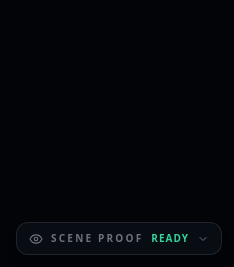
CockpitSceneProofPanel › lists individual NPC names when expanded
The image size is (234, 267).
Click the button with test id "cockpit-proof-toggle" at (119, 238), box x1=17 y1=223 x2=221 y2=254
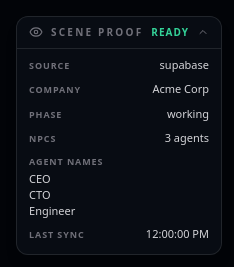
expect the element with test id "proof-npc-list" is shown: met, box x1=29 y1=155 x2=103 y2=218
expect the number of list items is 3: met, box x1=29 y1=171 x2=51 y2=186; x1=29 y1=187 x2=50 y2=202; x1=29 y1=203 x2=75 y2=218
